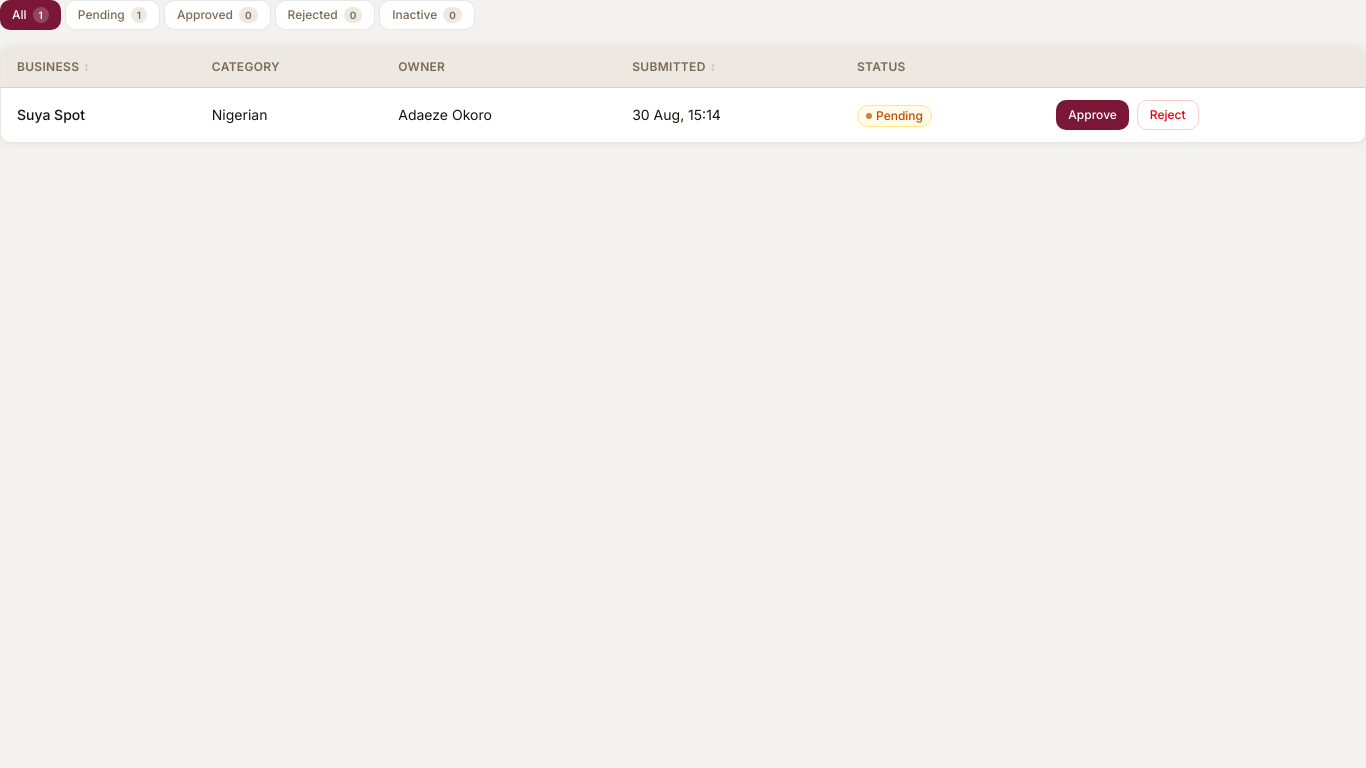
Scenario: Vendor review action › rejecting requires a reason and sends it in the request body
The image size is (1366, 768).
Click the button "Reject": (1168, 115) [1137, 100, 1199, 130]
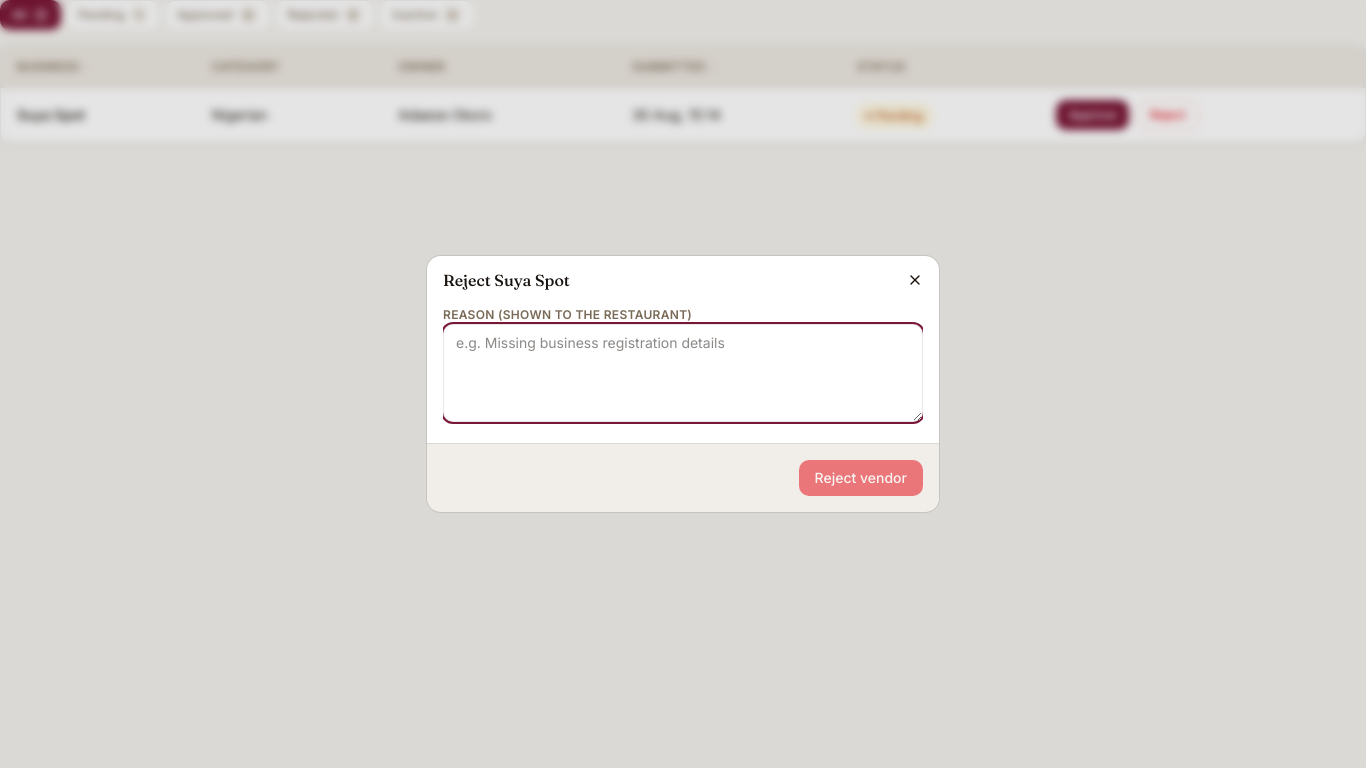
Now the button "Reject vendor" is disabled, box [799, 460, 923, 496]
In the text box labelled "Reason (shown to the restaurant)": (683, 373) [443, 324, 923, 422], type "Missing business registration"
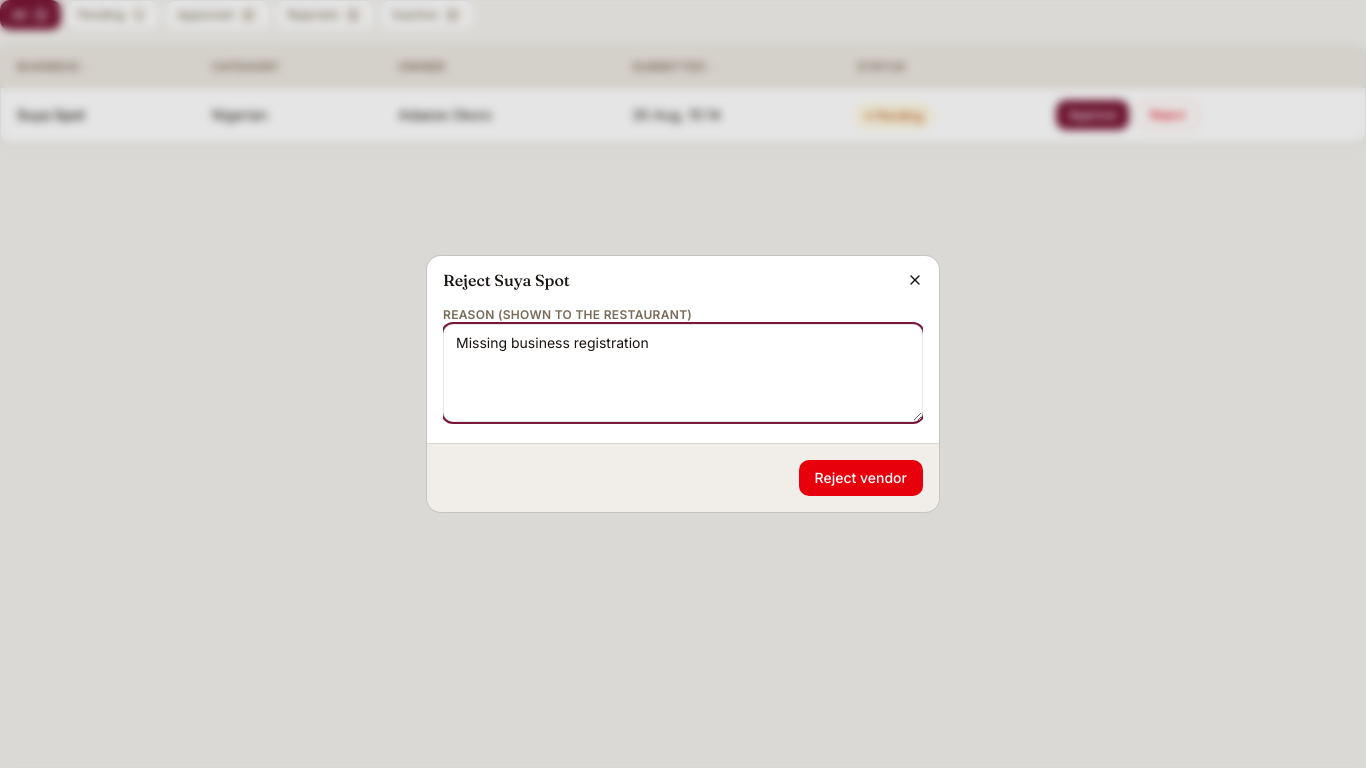
Now the button "Reject vendor" is enabled
Click the button "Reject vendor": (861, 478) [799, 460, 923, 496]
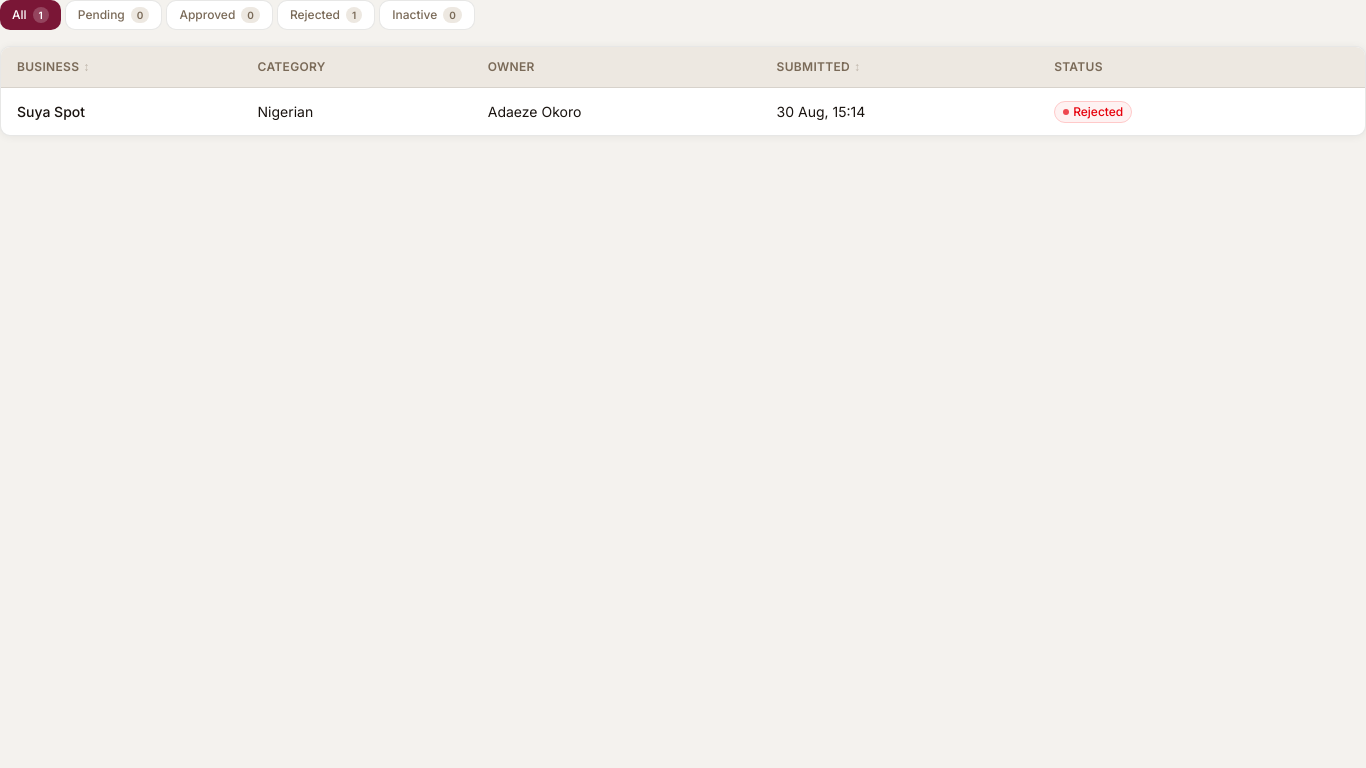
Now the text "Rejected" is shown, box [1054, 101, 1132, 123]
